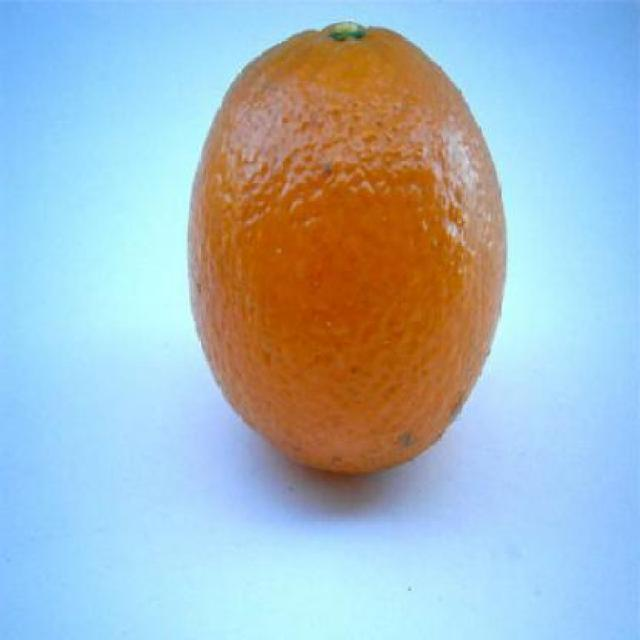Jeruk Sudah Matang: (190, 23, 508, 477)
